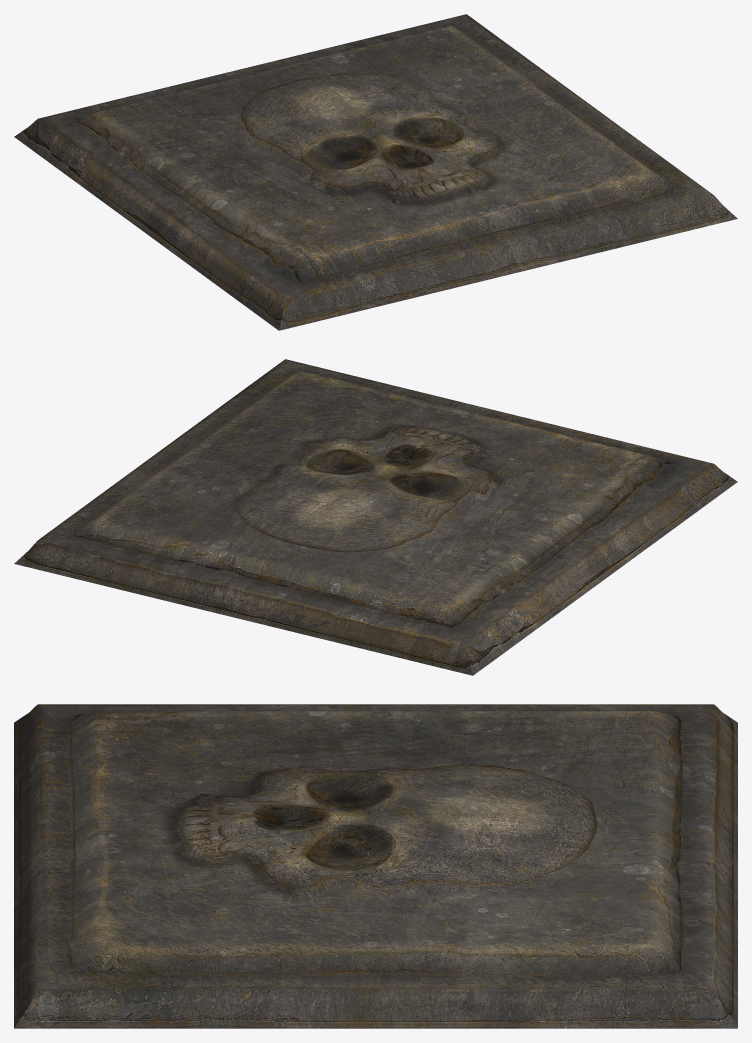
The model's file is skullOrnament.fbx.
The picture shows the model from 3 angles, top to bottom: view 1: azimuth 30°, elevation 25°; view 2: azimuth 150°, elevation 25°; view 3: azimuth 270°, elevation 25°; orthographic projection. The views are drawn at different scales.
Parts seen in each view (by area): view 1: skullOrnament; view 2: skullOrnament; view 3: skullOrnament.
Boxes of the visible parts, x1,y1,x2,y2 form: skullOrnament: [14, 14, 737, 330]; skullOrnament: [14, 359, 737, 675]; skullOrnament: [14, 704, 737, 1028].
Size of the model in its own units: 50 by 5 by 50.
